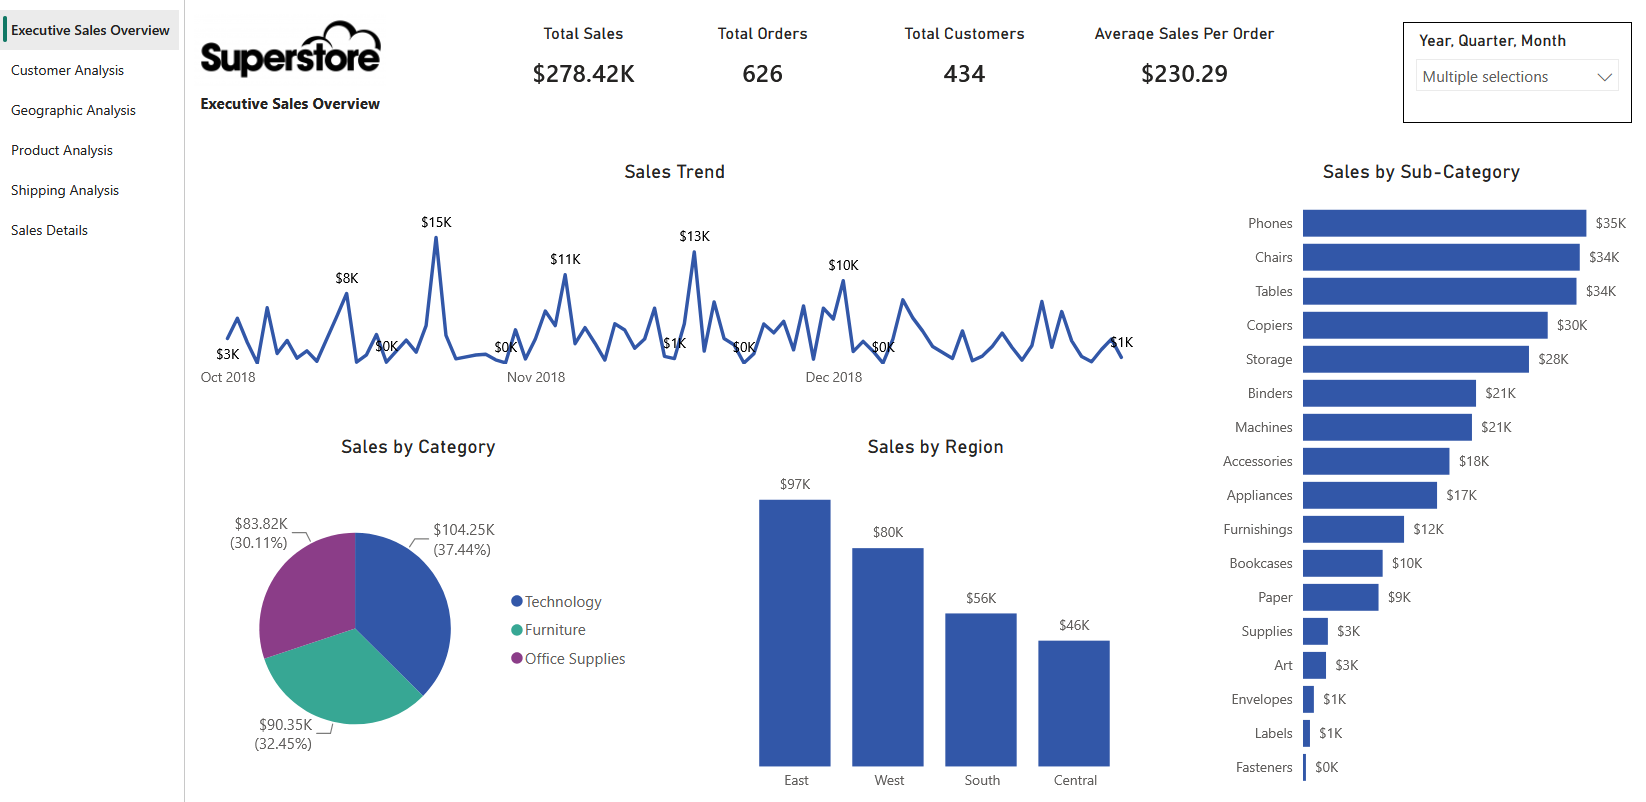

What the dashboard file says about the page in this screenshot:
{"tool":"powerbi","page":{"name":"Executive Sales Overview","canvas":[1280,720],"ordinal":0},"visuals":[{"type":"cardVisual","title":"Total Sales","fields":{"Data":["Sum(Super Store Dataset.Sales)"]},"box":[200,16,232,96],"z":0},{"type":"cardVisual","title":"Total Orders","fields":{"Data":["Count(Super Store Dataset.Order ID)"]},"box":[416,16,192,96],"z":1000},{"type":"cardVisual","title":"Total Customers","fields":{"Data":["Super Store Dataset.Total Customers"]},"box":[616,16,136,96],"z":2000},{"type":"cardVisual","title":"Average Sales Per Order","fields":{"Data":["Avg(Super Store Dataset.Sales)"]},"box":[792,16,200,96],"z":3000},{"type":"pieChart","title":"Sales by Category","fields":{"Category":["Super Store Dataset.Category"],"Y":["Sum(Super Store Dataset.Sales)"]},"box":[8,368,416,336],"z":4000},{"type":"barChart","title":"Sales by Sub-Category","fields":{"Category":["Super Store Dataset.Sub-Category"],"Y":["Sum(Super Store Dataset.Sales)"]},"box":[896,128,368,576],"z":5000},{"type":"pieChart","title":"Sales by Region","fields":{"Category":["Super Store Dataset.Region"],"Y":["Sum(Super Store Dataset.Sales)"]},"box":[432,368,416,336],"z":6000},{"type":"lineChart","title":"Sales Trend","fields":{"Y":["Sum(Super Store Dataset.Sales)"],"Category":["Super Store Dataset.Order Date"]},"box":[8,128,840,224],"z":7000},{"type":"slicer","title":"Filter by","fields":{"Values":["Super Store Dataset.Order Date Hierarchy.Year","Super Store Dataset.Order Date Hierarchy.Quarter","Super Store Dataset.Order Date Hierarchy.Month"]},"box":[1064,24,200,88],"z":8000},{"type":"image","box":[8,16,168,96],"z":9000},{"type":"textbox","box":[0,96,192,32],"z":10000}]}

Visuals, with their boxes on the page's 1280x720 design canvas (x1, y1, x2, y2). These are canvas units, not pixel positions in the 1646x802 screenshot, which may show the page scaled, cropped or inside an application window:
"Total Sales" cardVisual: {"left": 200, "top": 16, "right": 432, "bottom": 112}
"Total Orders" cardVisual: {"left": 416, "top": 16, "right": 608, "bottom": 112}
"Total Customers" cardVisual: {"left": 616, "top": 16, "right": 752, "bottom": 112}
"Average Sales Per Order" cardVisual: {"left": 792, "top": 16, "right": 992, "bottom": 112}
"Sales by Category" pieChart: {"left": 8, "top": 368, "right": 424, "bottom": 704}
"Sales by Sub-Category" barChart: {"left": 896, "top": 128, "right": 1264, "bottom": 704}
"Sales by Region" pieChart: {"left": 432, "top": 368, "right": 848, "bottom": 704}
"Sales Trend" lineChart: {"left": 8, "top": 128, "right": 848, "bottom": 352}
"Filter by" slicer: {"left": 1064, "top": 24, "right": 1264, "bottom": 112}
image: {"left": 8, "top": 16, "right": 176, "bottom": 112}
textbox: {"left": 0, "top": 96, "right": 192, "bottom": 128}
